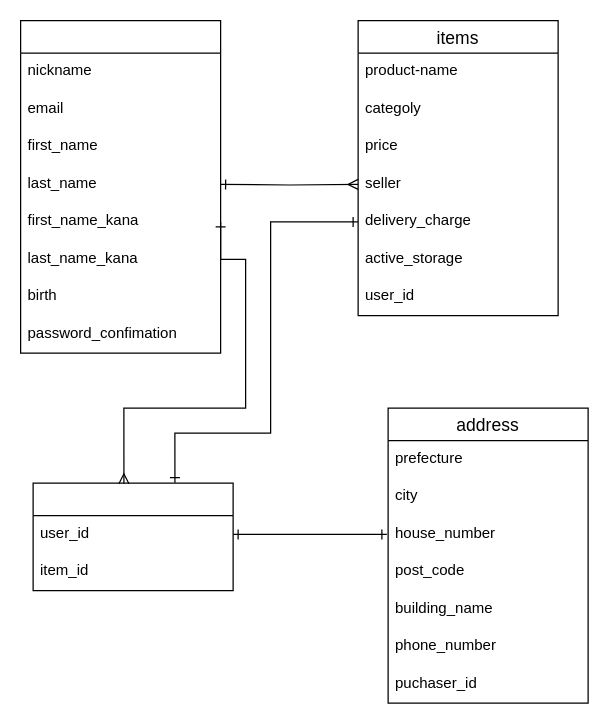
Image size: 609x724. Some labels were removed from this diagram. Each missing label, with the box of its shape:
purchaser: (32, 482, 233, 591)
USERS: (19, 19, 221, 353)
